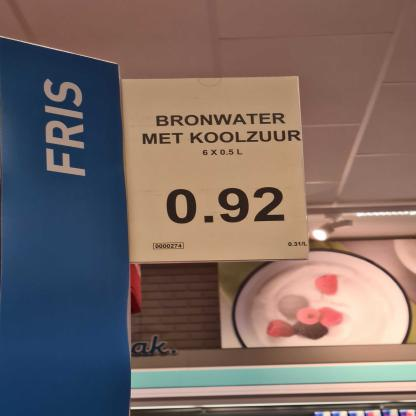prtg: (121, 76, 311, 264)
